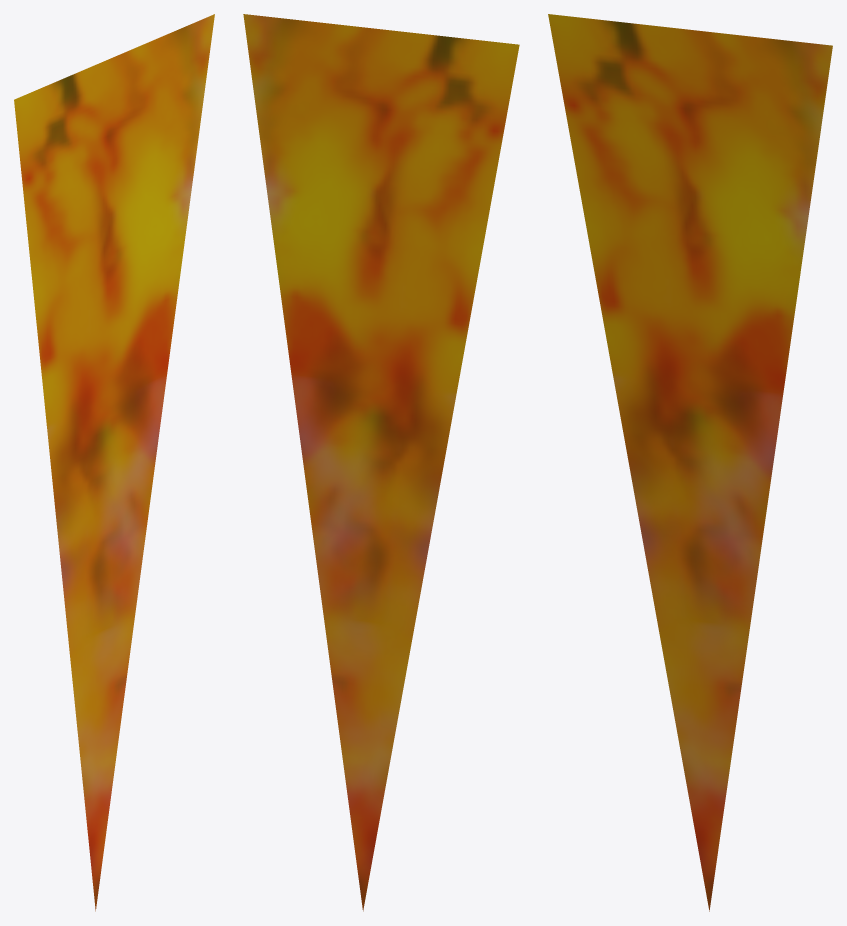
File: Island_2_LatTri_10.gltf
3 renders of one model, left to right at view 1: azimuth 30°, elevation 25°; view 2: azimuth 150°, elevation 25°; view 3: azimuth 330°, elevation 25°, orthographic. The views are drawn at different scales.
Visible parts, largest first — view 1: Island_2_LatTri_10; view 2: Island_2_LatTri_10; view 3: Island_2_LatTri_10.
Part boxes in pixels (x1,y1,x2,y2): Island_2_LatTri_10: (14,14,214,911); Island_2_LatTri_10: (243,14,519,911); Island_2_LatTri_10: (548,14,832,911).
Size of the model in its own units: 0.9597 by 3.34 by 0.262.
1 material, 1 textured.
